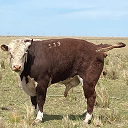vaca: (0, 30, 111, 125)
